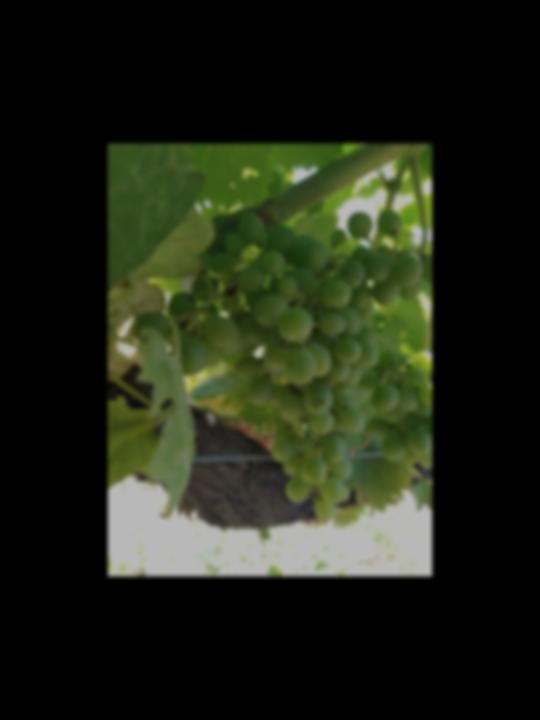grape: (132, 208, 431, 523)
